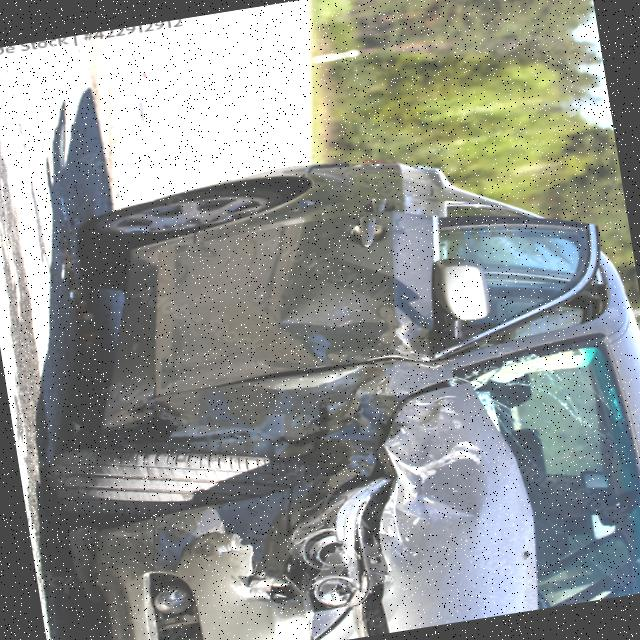Severe Damage: (9, 305, 564, 640)
